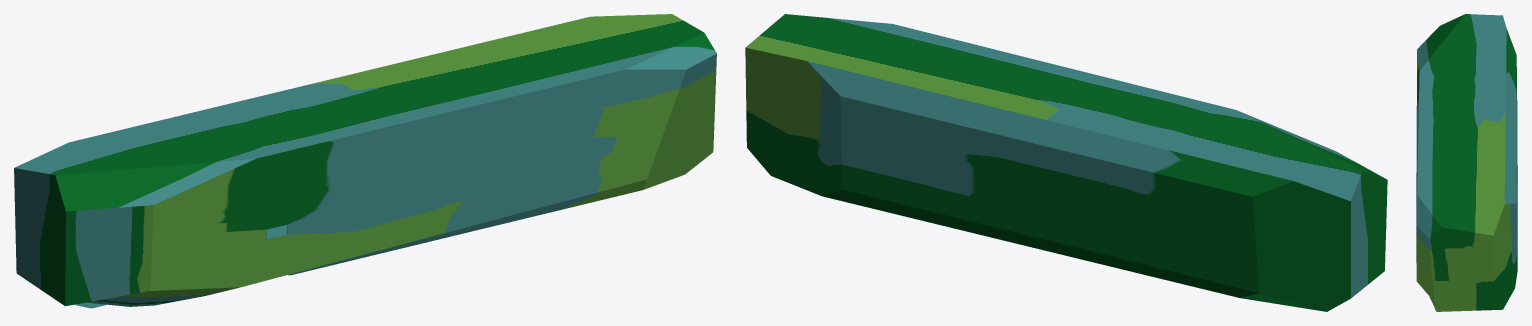
The model's file is salientes3.obj.
The picture shows the model from 3 angles, left to right: view 1: azimuth 30°, elevation 25°; view 2: azimuth 150°, elevation 25°; view 3: azimuth 270°, elevation 25°; orthographic projection. The views are drawn at different scales.
Parts seen in each view (by area): view 1: saliente.020_Cube.020; view 2: saliente.020_Cube.020; view 3: saliente.020_Cube.020.
Part boxes in pixels (left/top/right/bottom): saliente.020_Cube.020: left=14, top=14, right=716, bottom=308; saliente.020_Cube.020: left=745, top=14, right=1387, bottom=311; saliente.020_Cube.020: left=1416, top=14, right=1517, bottom=311.
Size of the model in its own units: 20.93 by 4.1 by 4.08.
1 material, 1 textured.
